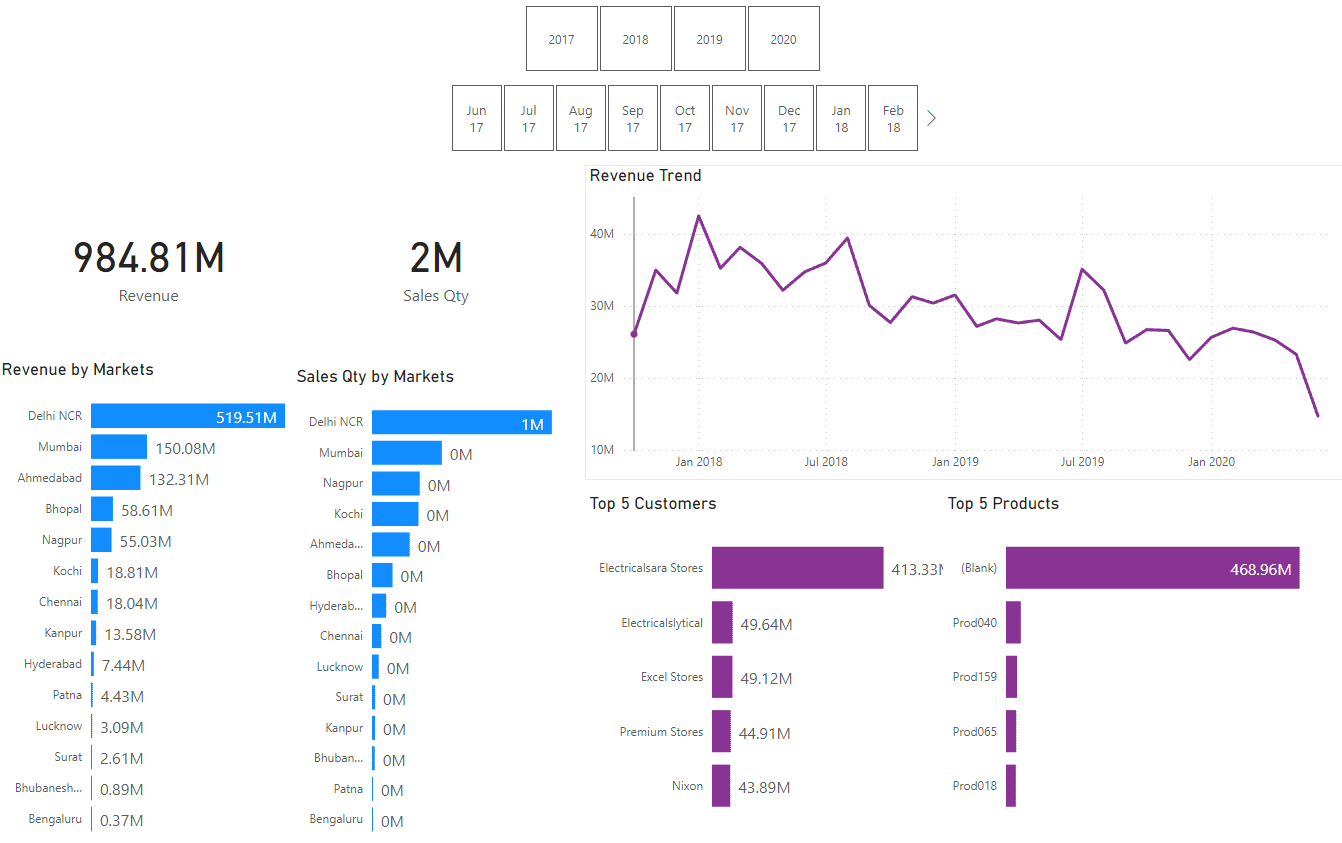

Layout of this report page (visuals, bound fields, positions):
{"tool":"powerbi","page":{"name":"Page 1","canvas":[1350,850],"ordinal":0},"visuals":[{"type":"card","fields":{"Values":["BaseMeasure.Revenue"]},"box":[0,0,229.2,142.3],"z":0},{"type":"card","fields":{"Values":["BaseMeasure.Sales Qty"]},"box":[229.2,0,206.9,142.3],"z":1},{"type":"barChart","title":"Revenue by Markets","fields":{"Y":["BaseMeasure.Revenue"],"Category":["sales markets.markets_name"]},"box":[0,142.3,323.1,489.2],"z":2},{"type":"barChart","title":"Sales Qty by Markets","fields":{"Y":["BaseMeasure.Sales Qty"],"Category":["sales markets.markets_name"]},"box":[290.8,142.3,267.7,483.1],"z":3},{"type":"slicer","fields":{"Values":["sales date.year"]},"box":[588.5,0,266.9,53.1],"z":4},{"type":"slicer","fields":{"Values":["sales date.cy_date"]},"box":[868.5,0,413.8,53.1],"z":5},{"type":"barChart","title":"Top 5 Customers","fields":{"Y":["BaseMeasure.Revenue"],"Category":["sales customers.custmer_name"]},"box":[621.5,386.9,291.5,230],"z":6},{"type":"barChart","title":"Top 5 Products","fields":{"Y":["BaseMeasure.Revenue"],"Category":["sales products.product_code"]},"box":[1058.5,383.8,291.5,230],"z":7},{"type":"lineChart","title":"Revenue Trend","fields":{"Y":["BaseMeasure.Revenue"],"Category":["sales date.cy_date.Variation.Date Hierarchy.Year","sales date.cy_date.Variation.Date Hierarchy.Quarter","sales date.cy_date.Variation.Date Hierarchy.Month","sales date.cy_date.Variation.Date Hierarchy.Day"]},"box":[588.5,60,761.5,314.6],"z":8}]}

Visuals, with their boxes in screenshot pixels (x1, y1, x2, y2), scaled from the page's 1350x850 canvas onto the 1342x843 screenshot:
card - BaseMeasure.Revenue: 0/0/228/141
card - BaseMeasure.Sales Qty: 228/0/434/141
"Revenue by Markets" barChart: 0/141/321/626
"Sales Qty by Markets" barChart: 289/141/555/620
slicer - sales date.year: 585/0/850/53
slicer - sales date.cy_date: 863/0/1275/53
"Top 5 Customers" barChart: 618/384/908/612
"Top 5 Products" barChart: 1052/381/1341/609
"Revenue Trend" lineChart: 585/60/1341/372
